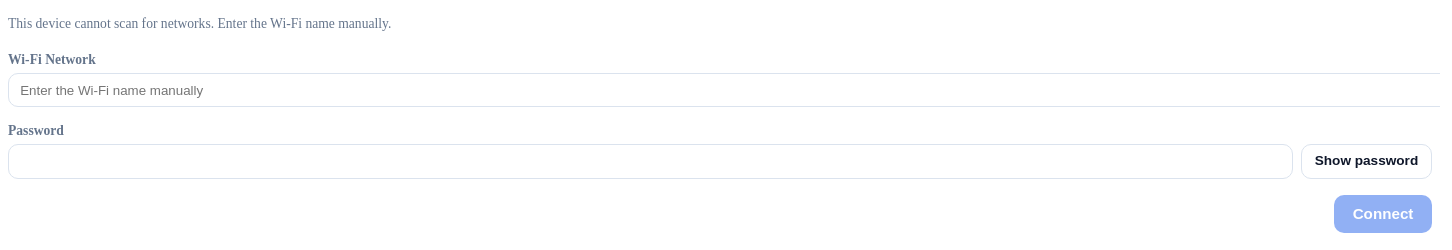
Scenario: WifiForm › networks 为 null（设备不支持扫描）：显示手动输入提示，无网络列表与重新扫描入口
The width and height of the screenshot is (1452, 250).
Expected: the text "This device cannot scan for networks. Enter the Wi-Fi name manually." is shown, left=8, top=16, right=391, bottom=31
#  手动输入仍可用
Step 1. Type "manual-ssid" into the field labelled "Wi-Fi Network" → (724, 90), box left=8, top=73, right=1440, bottom=107
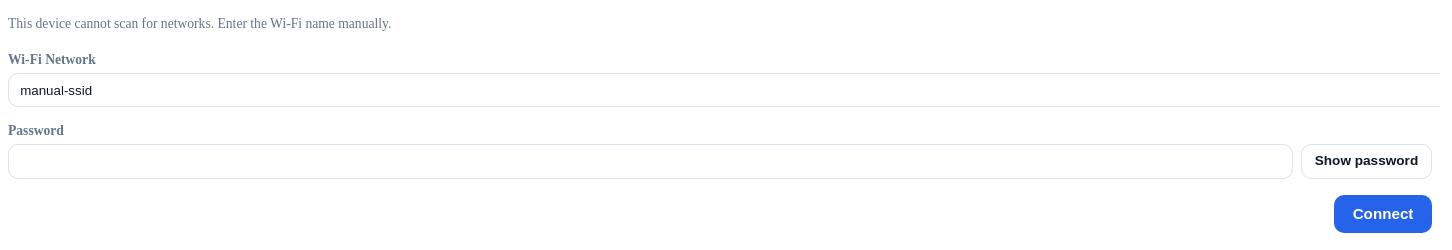
Now the button "Connect" is enabled, box left=1334, top=195, right=1432, bottom=233
